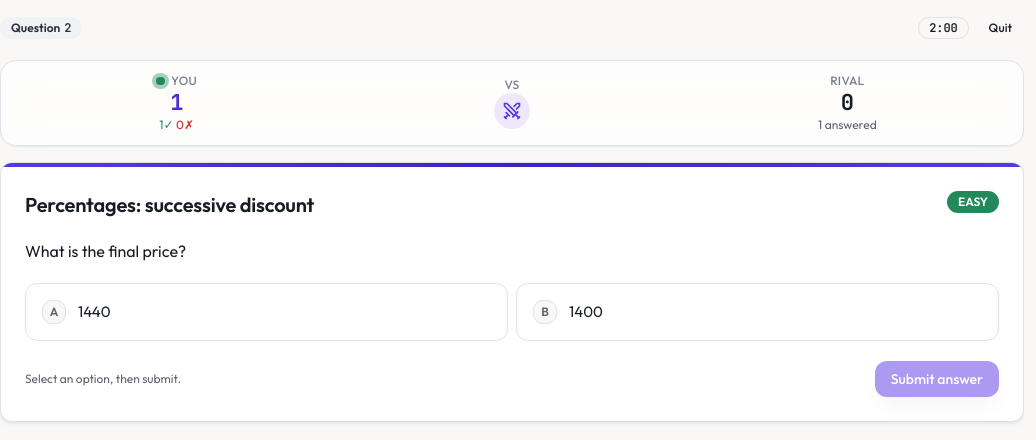
Test: ChallengeArena › disables submission until an option is selected
Check: the button "Submit answer" is disabled, box x1=875 y1=361 x2=999 y2=397
Step 1. Click the text "1440" → (94, 312), box x1=78 y1=302 x2=111 y2=321
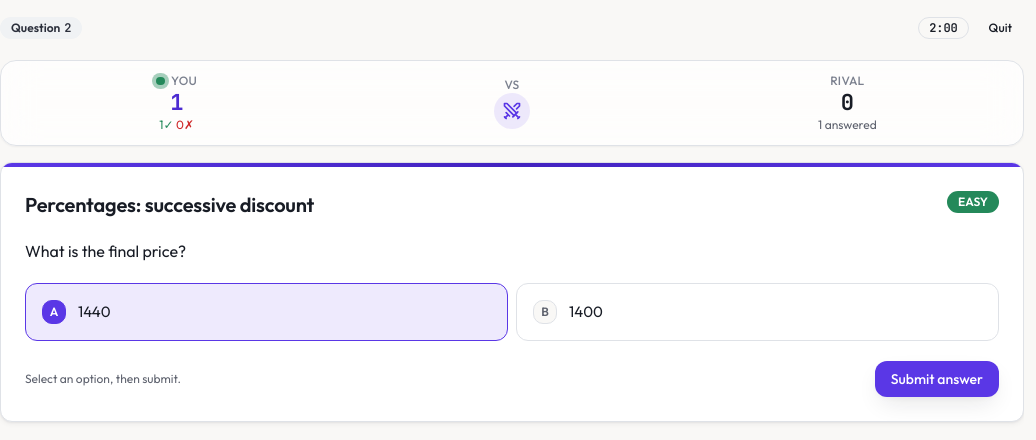
Check: the button "Submit answer" is enabled, box x1=875 y1=361 x2=999 y2=397
